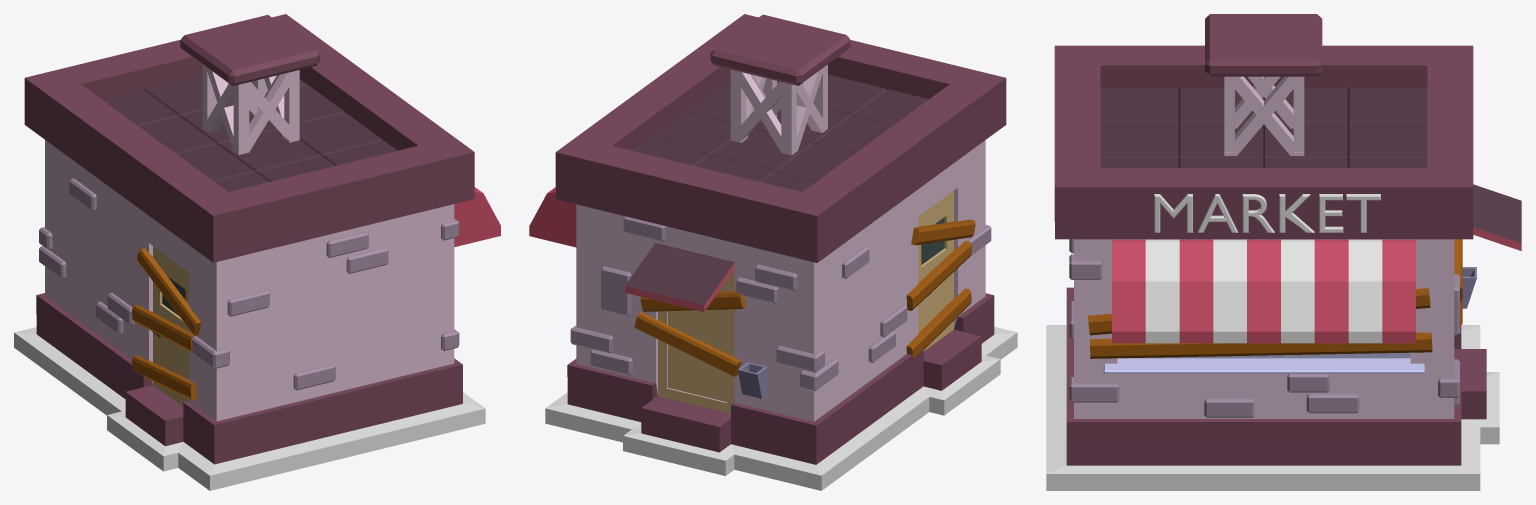
The model's file is SupermarketBase.fbx.
3 renders of one model, left to right at view 1: azimuth 30°, elevation 25°; view 2: azimuth 150°, elevation 25°; view 3: azimuth 270°, elevation 25°, orthographic. The views are drawn at different scales.
Parts seen in each view (by area): view 1: Market; view 2: Market; view 3: Market.
Part boxes in pixels (x1=…): Market: x1=14, y1=14, x2=500, y2=490; Market: x1=529, y1=14, x2=1017, y2=490; Market: x1=1046, y1=14, x2=1521, y2=490.
Size of the model in its own units: 8.92 by 8.71 by 9.87.
